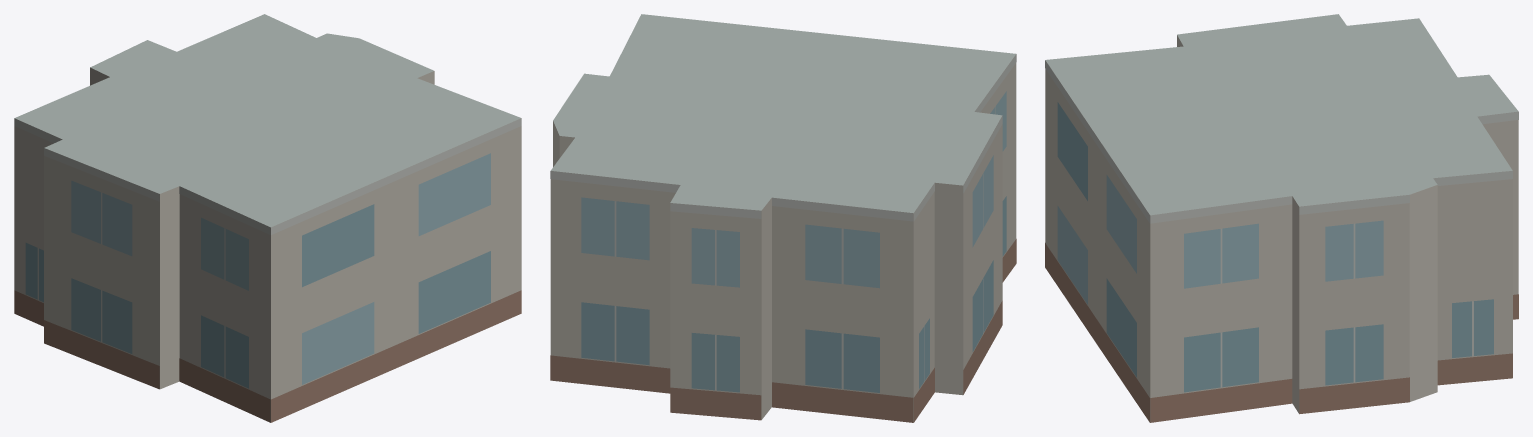
File: survey-upis-32661966.glb
The picture shows the model from 3 angles, left to right: view 1: azimuth 30°, elevation 25°; view 2: azimuth 150°, elevation 25°; view 3: azimuth 270°, elevation 25°; orthographic projection. The views are drawn at different scales.
Parts seen in each view (by area): view 1: survey-upis-32661966.tmp; view 2: survey-upis-32661966.tmp; view 3: survey-upis-32661966.tmp.
Boxes of the visible parts, x1,y1,x2,y2 form: survey-upis-32661966.tmp: (14, 14, 521, 422); survey-upis-32661966.tmp: (550, 14, 1016, 422); survey-upis-32661966.tmp: (1045, 14, 1518, 422).
Bounding box in the file's own units: 12.71 × 6.1 × 12.63.
